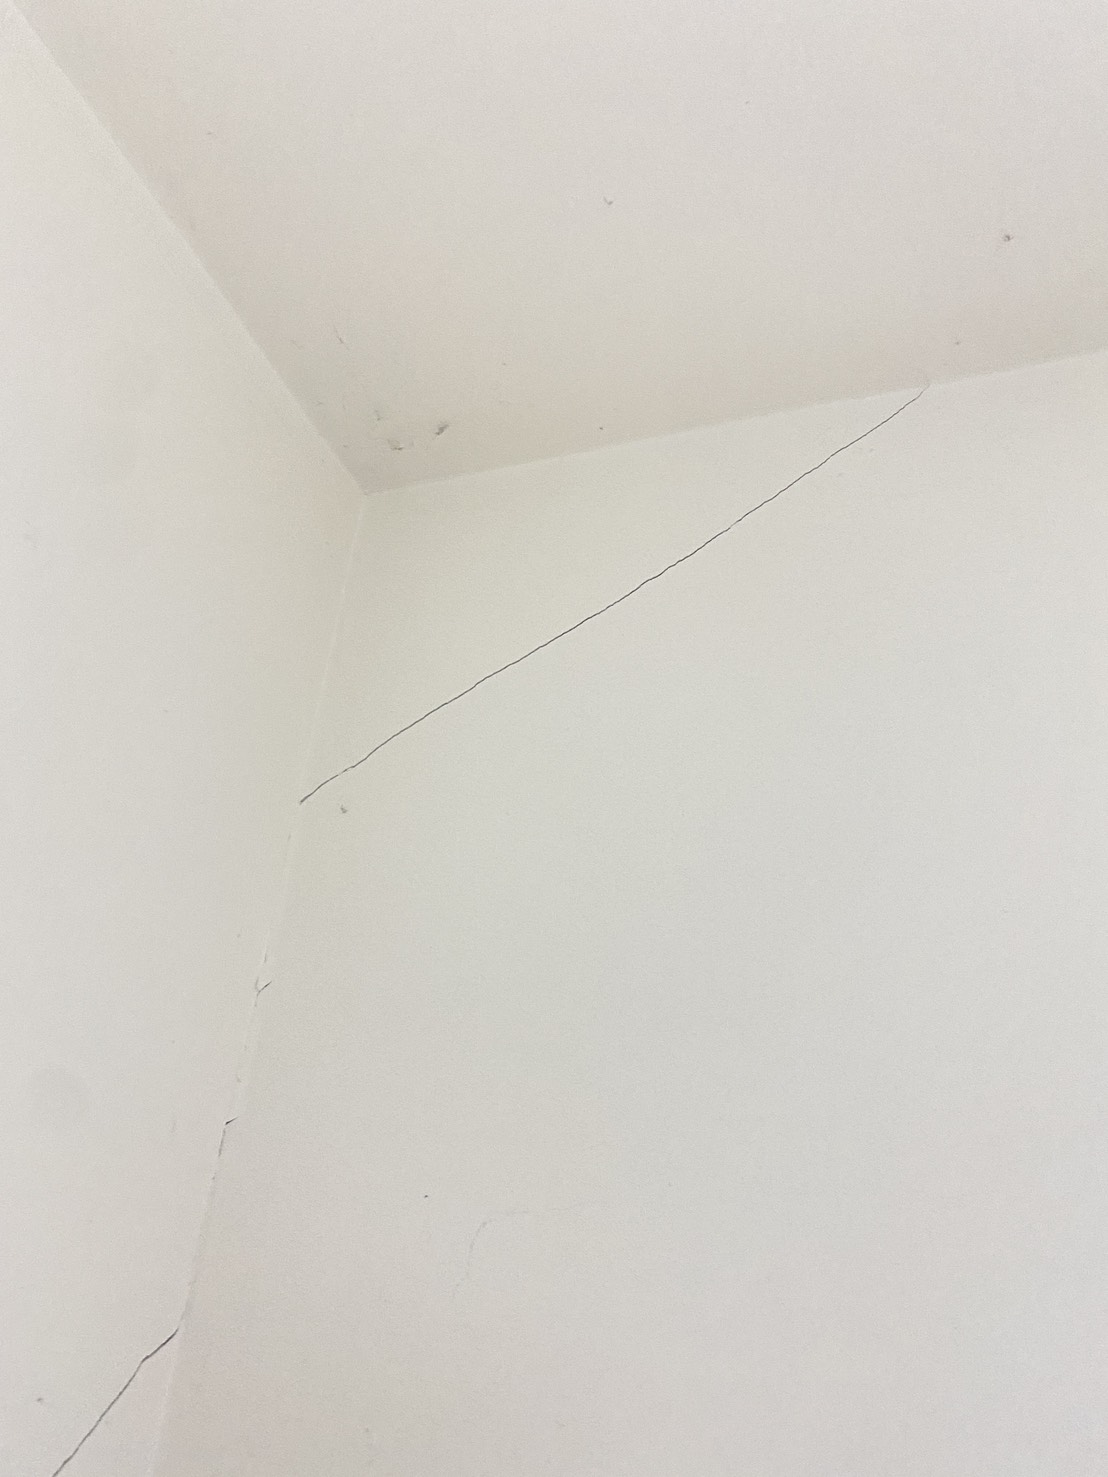Low: (263, 371, 1034, 824)
